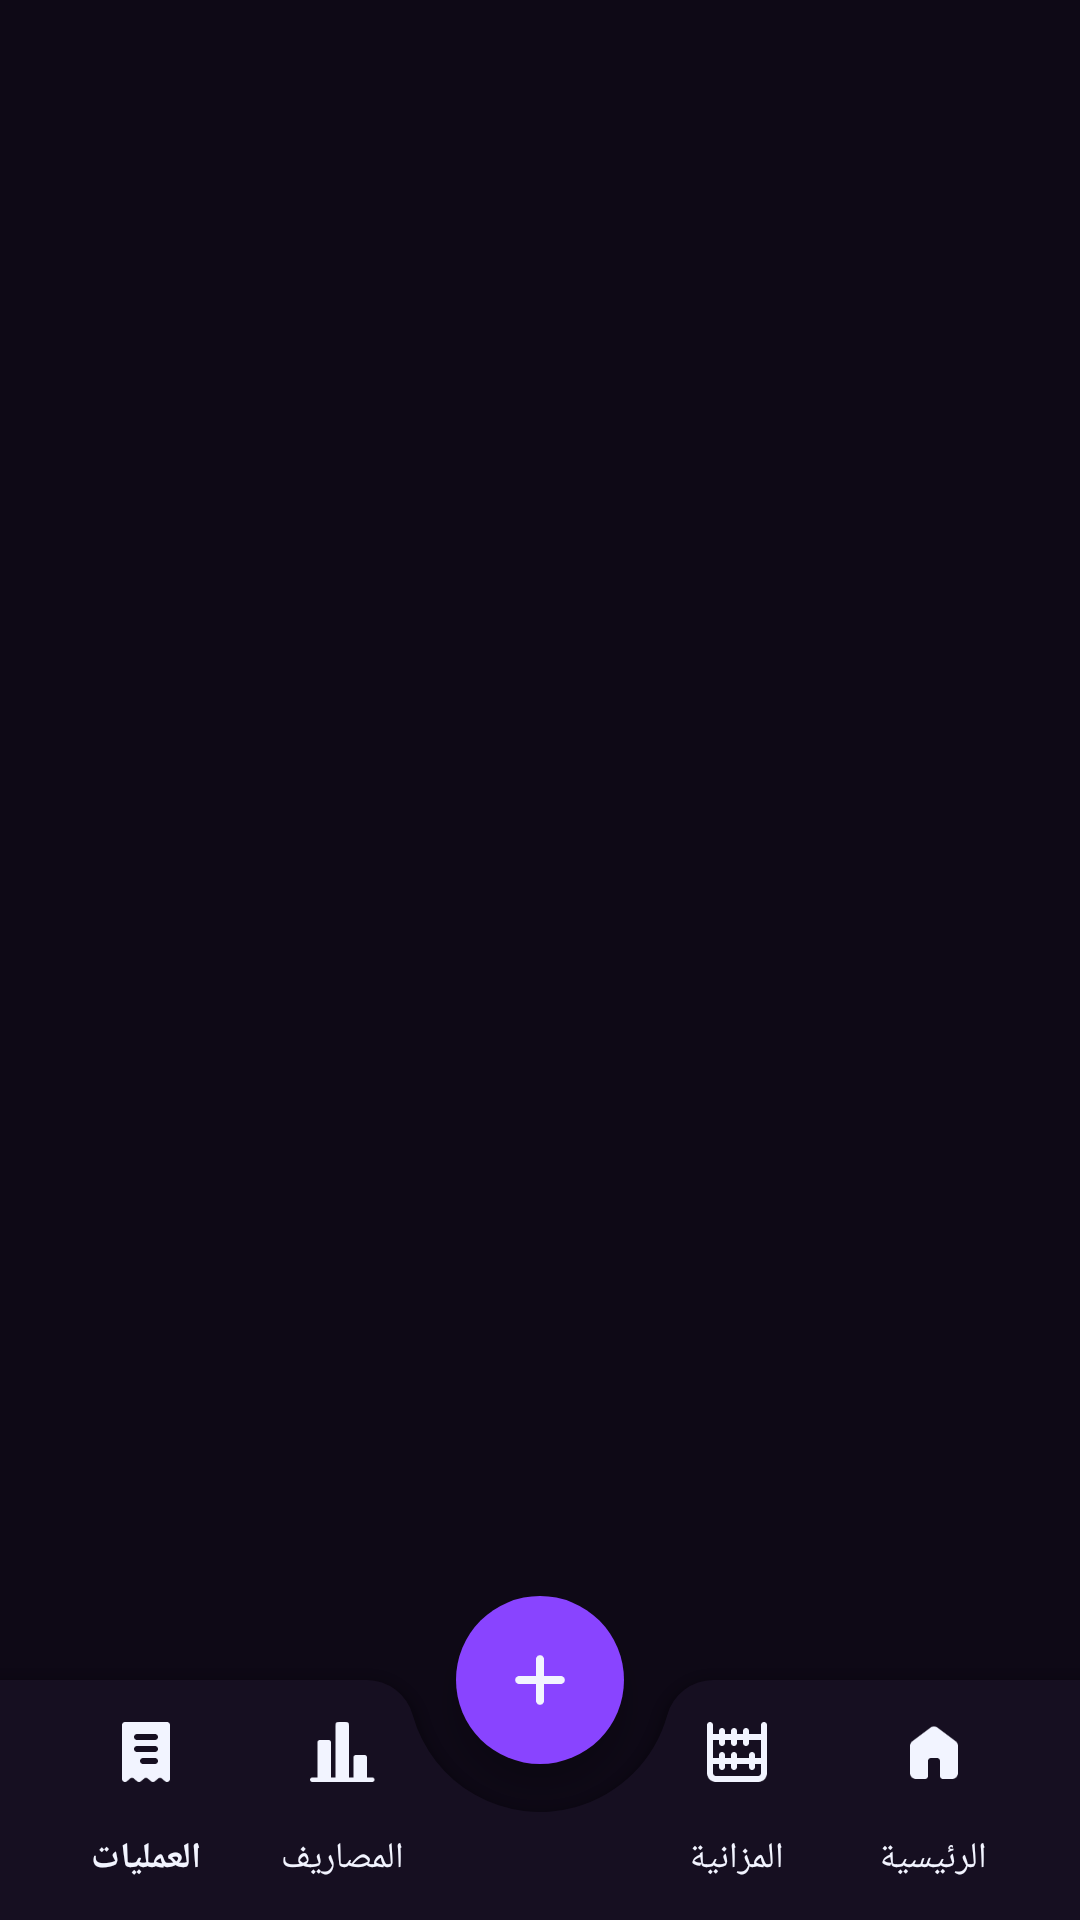

Icon bounding boxes for this 1080w x 1920h phone screenshot, format (x1, y1, x2, y2):
plus: (456, 1596, 624, 1764)
